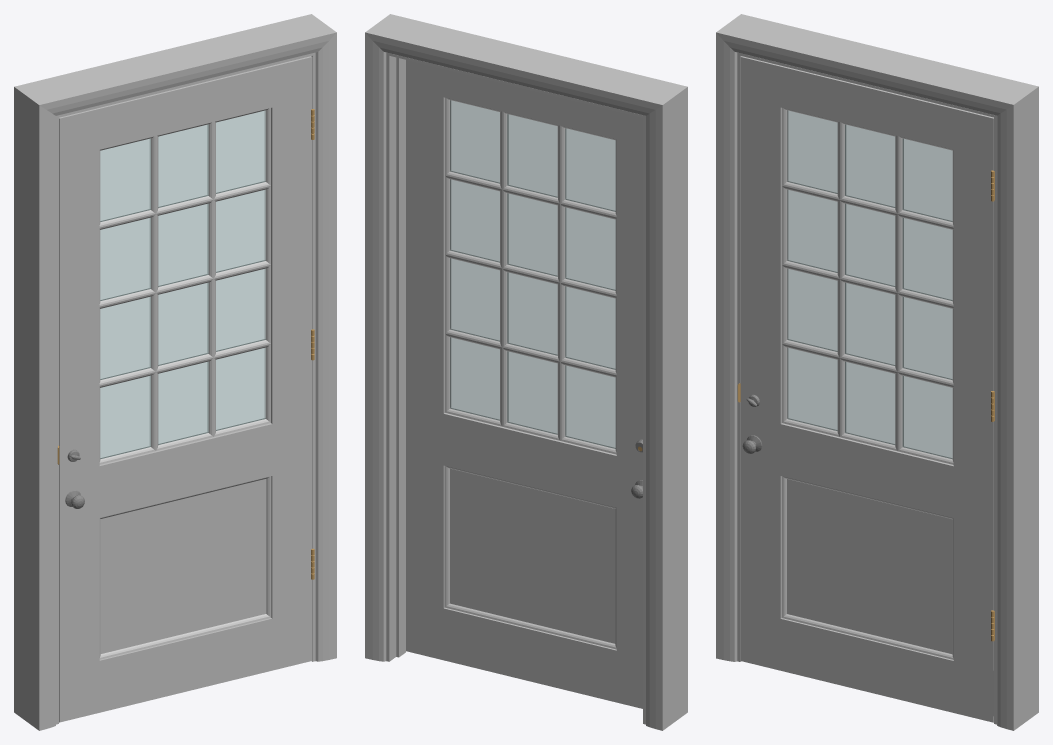
The model's file is exterior-door-07.obj.
3 renders of one model, left to right at view 1: azimuth 30°, elevation 25°; view 2: azimuth 150°, elevation 25°; view 3: azimuth 330°, elevation 25°, orthographic.
Parts seen in each view (by area): view 1: front_door, Door_frame; view 2: front_door, Door_frame; view 3: front_door, Door_frame.
Part boxes in pixels (x1,y1,x2,y2): front_door: (59,56,312,722); Door_frame: (14,14,336,730); front_door: (406,60,642,708); Door_frame: (365,14,687,730); front_door: (740,56,993,722); Door_frame: (716,14,1038,730).
Bounding box in the file's own units: 7.82 × 15.71 × 1.38.
